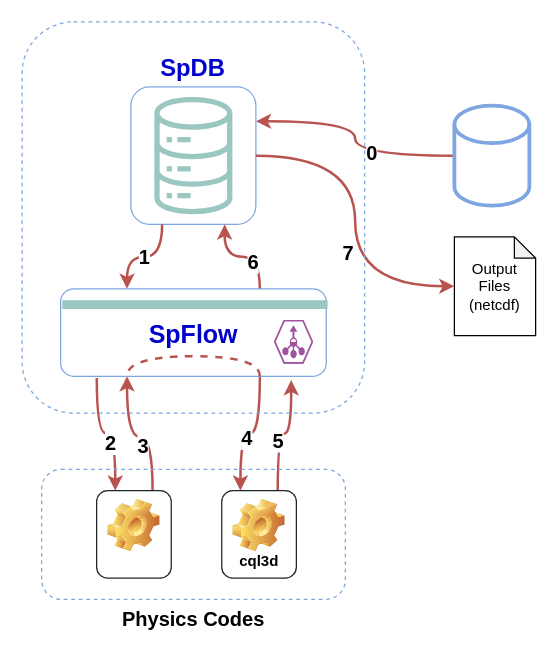
The diagram is 558 pixels wide and 654 high, and some of its shapes have lost their labels. Each missing label, with the centre of its shape:
"EAST" belongs at (491,155).
"genray" belongs at (133,533).
